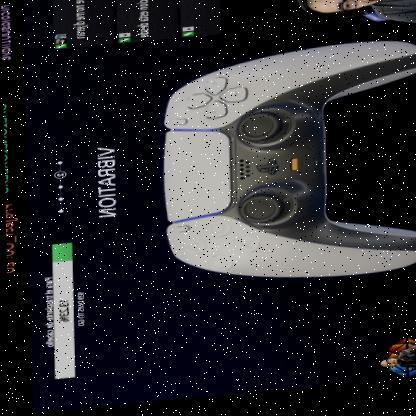streamer: (297, 0, 416, 49)
